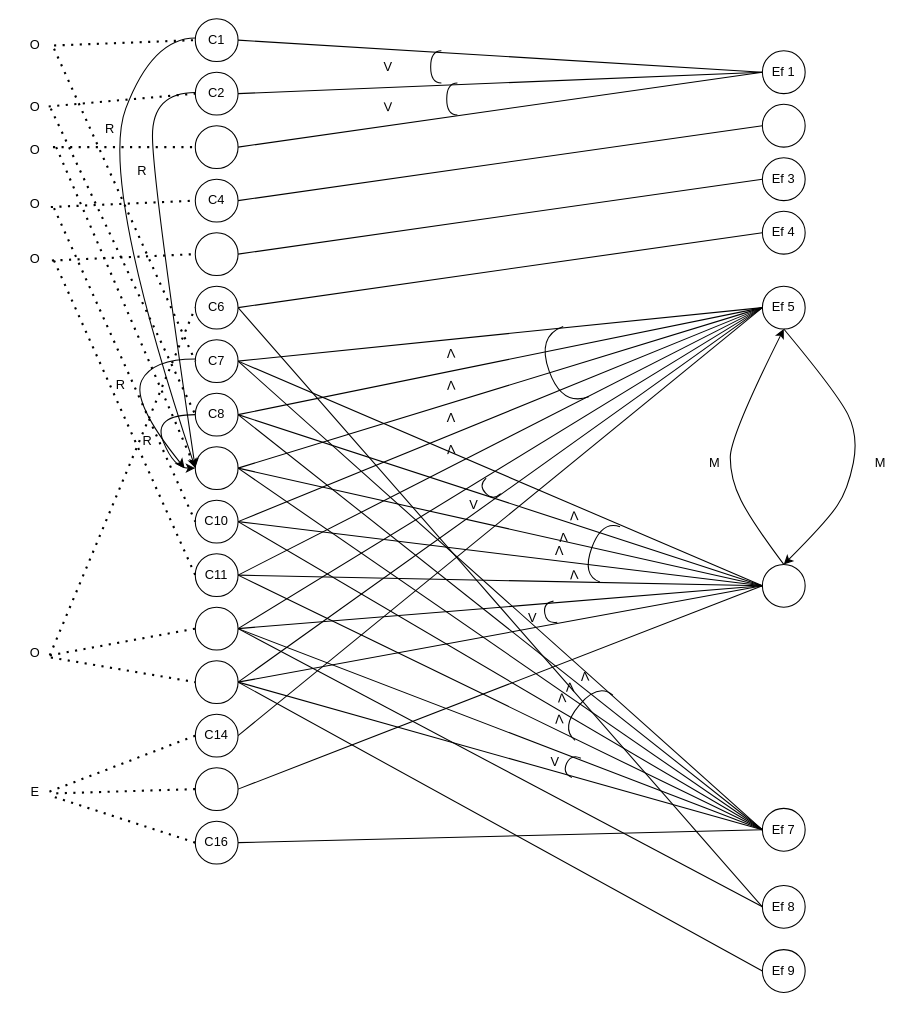
Some shapes in this 914 by 1011 pixel diagram are drawn without their labels. Each missing label, with the centre of its shape:
C12: the point at 216,628
C13: the point at 216,682
C15: the point at 216,789
C3: the point at 216,147
C5: the point at 216,254
C9: the point at 216,468
Ef 2: the point at 783,125
Ef 6: the point at 783,585
